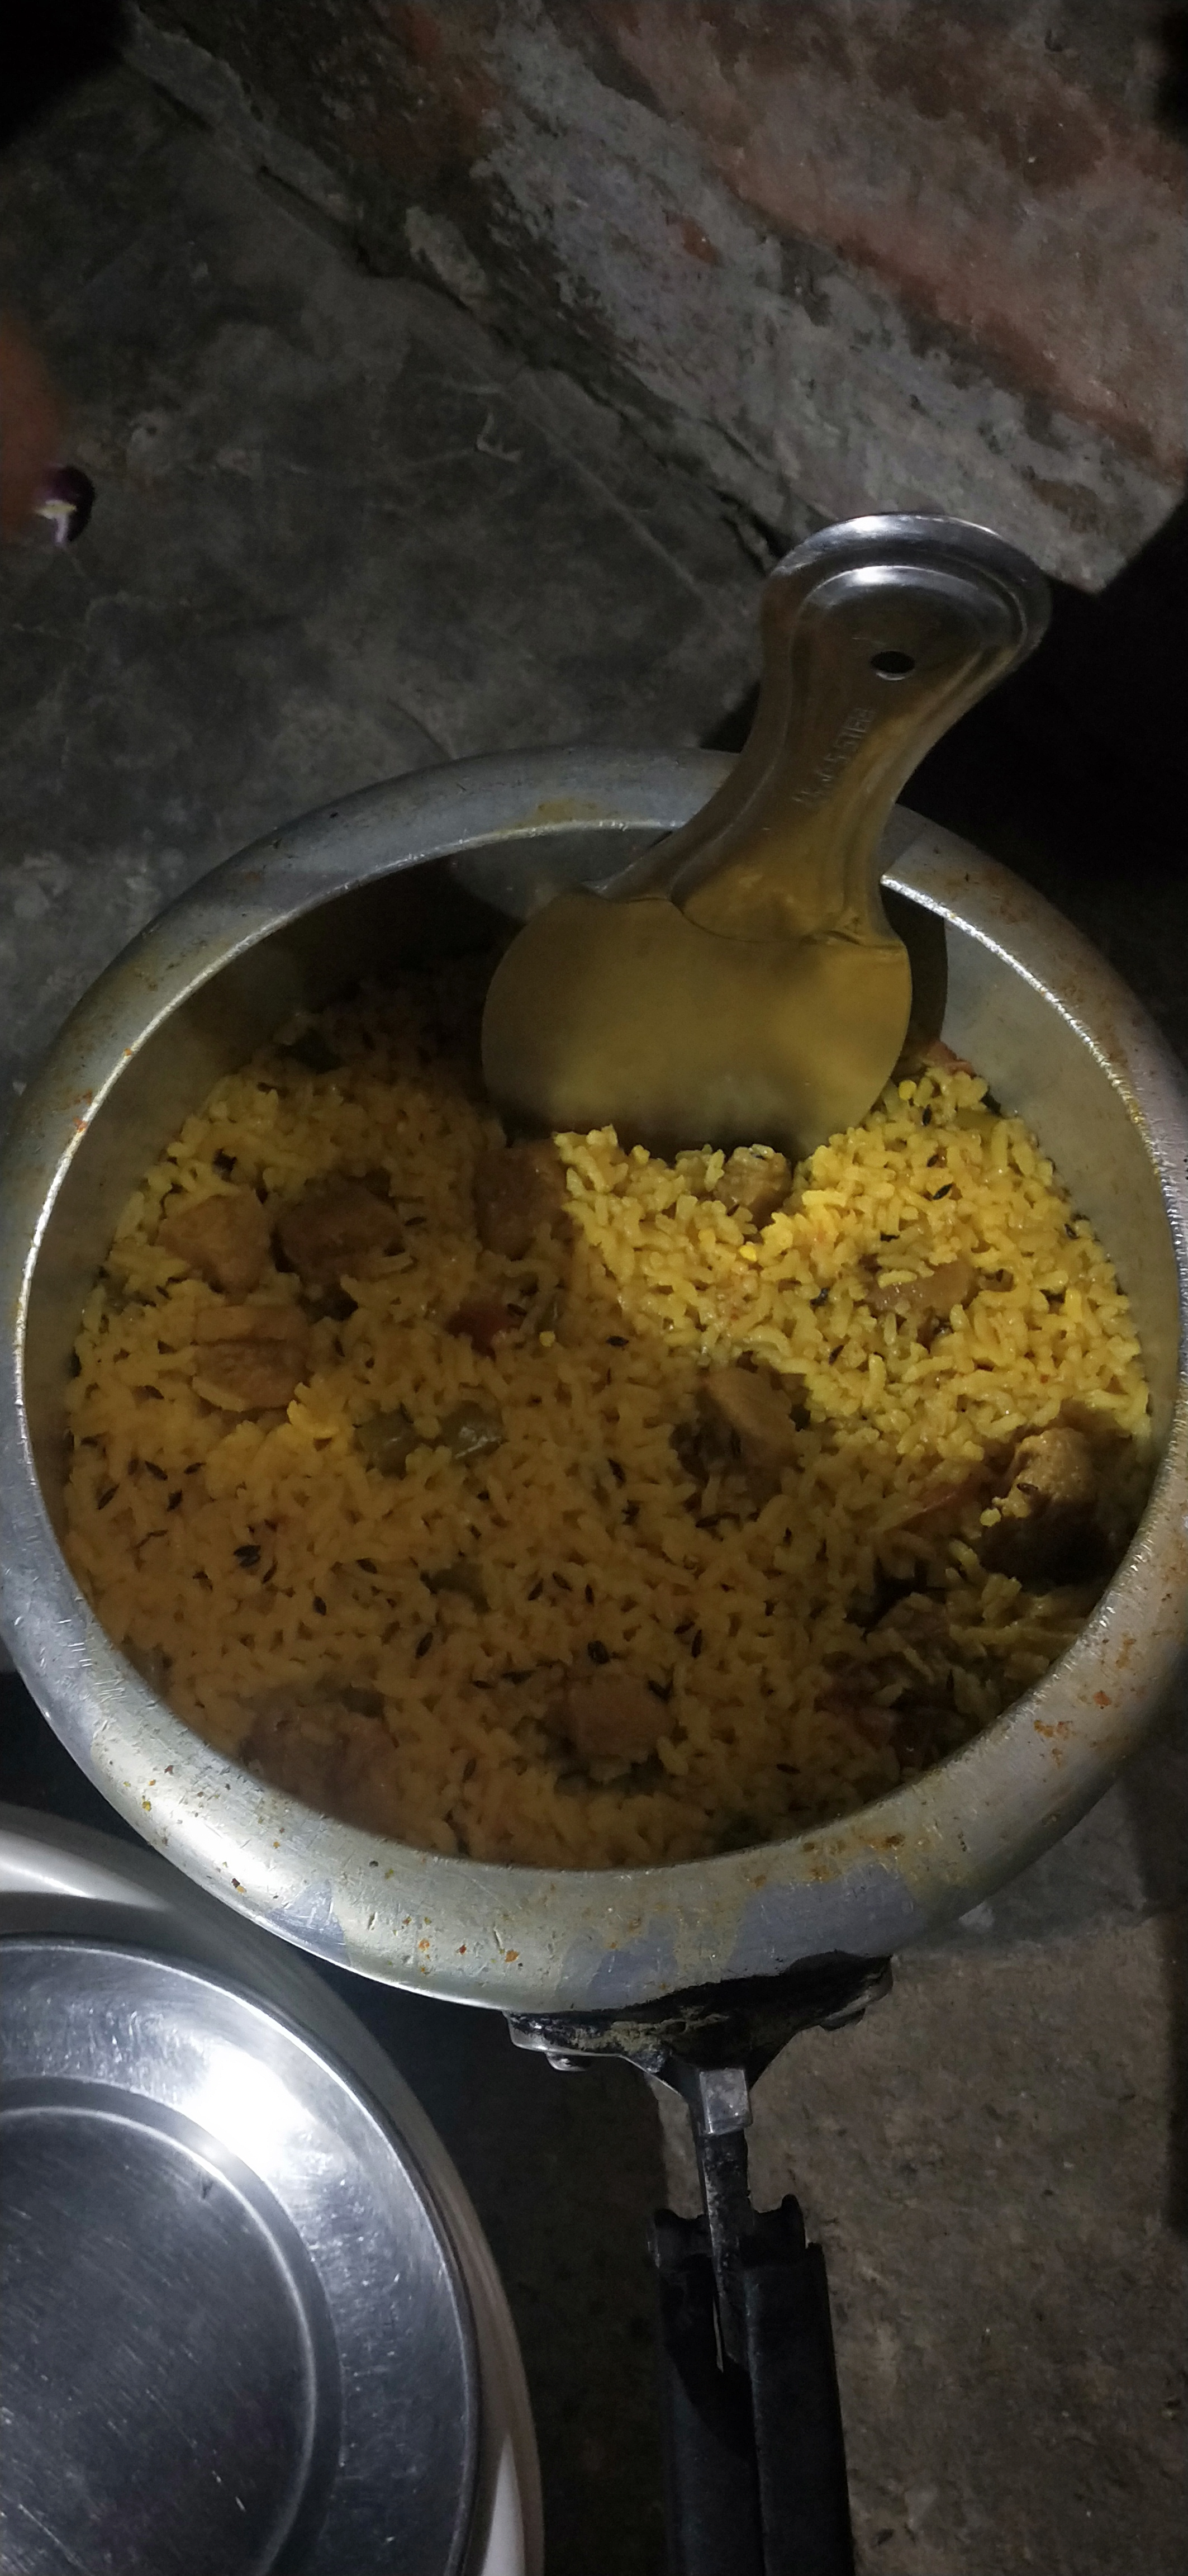food: (41, 884, 1157, 1871)
